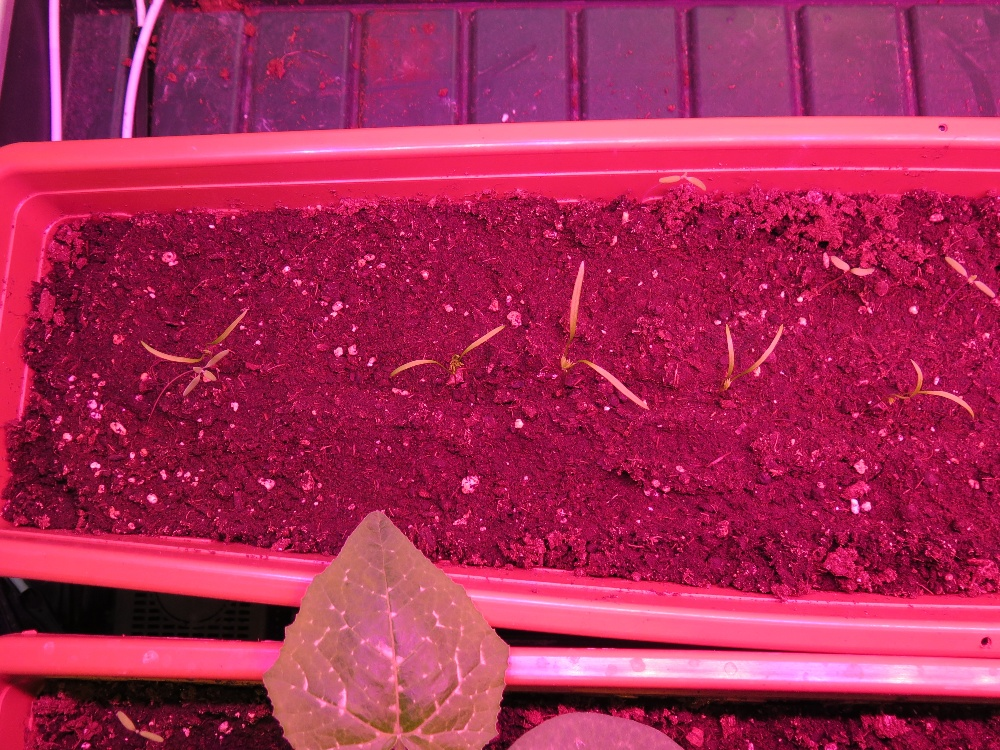crop: (558, 256, 650, 412), (387, 323, 508, 380), (884, 356, 975, 422), (140, 308, 249, 363), (719, 321, 785, 395)
weed: (943, 253, 997, 298), (182, 349, 230, 396), (655, 169, 708, 200), (828, 253, 875, 276)
